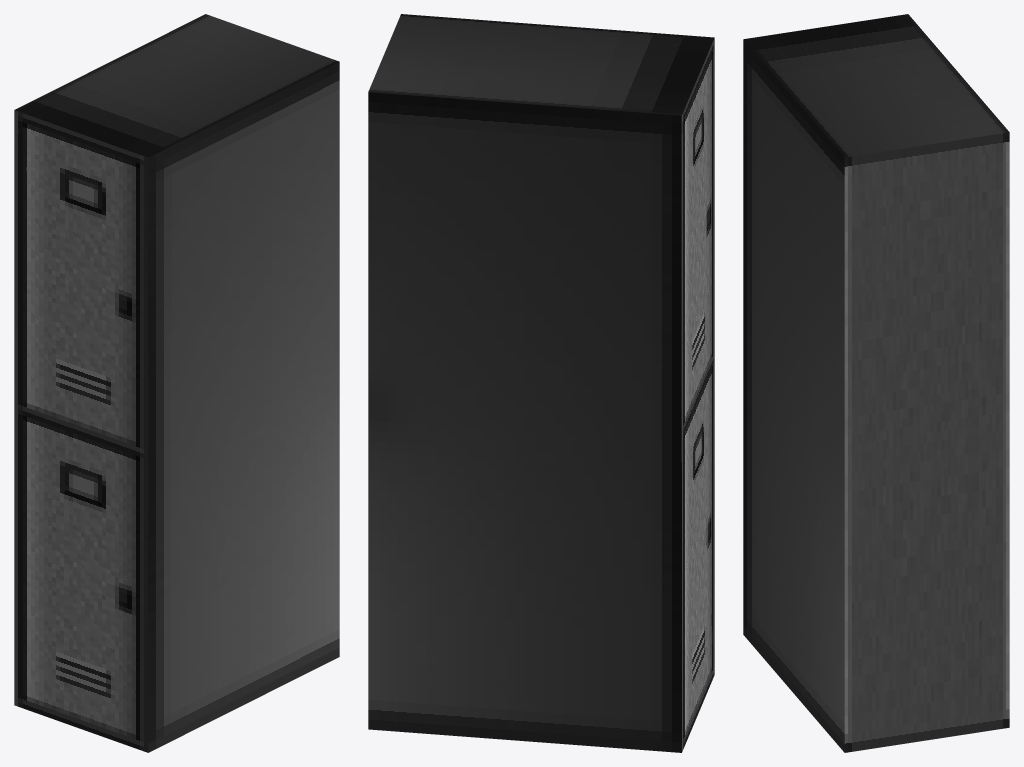
The model's file is primary_166.glb.
3 renders of one model, left to right at view 1: azimuth 30°, elevation 25°; view 2: azimuth 150°, elevation 25°; view 3: azimuth 270°, elevation 25°, orthographic. The views are drawn at different scales.
Parts seen in each view (by area): view 1: Object; view 2: Object; view 3: Object.
Part boxes in pixels (x1,y1,x2,y2): Object: (14, 14, 339, 752); Object: (368, 14, 714, 752); Object: (743, 14, 1009, 752).
Bounding box in the file's own units: 1.39 × 2.7 × 1.09.
5 materials, 5 textured.
